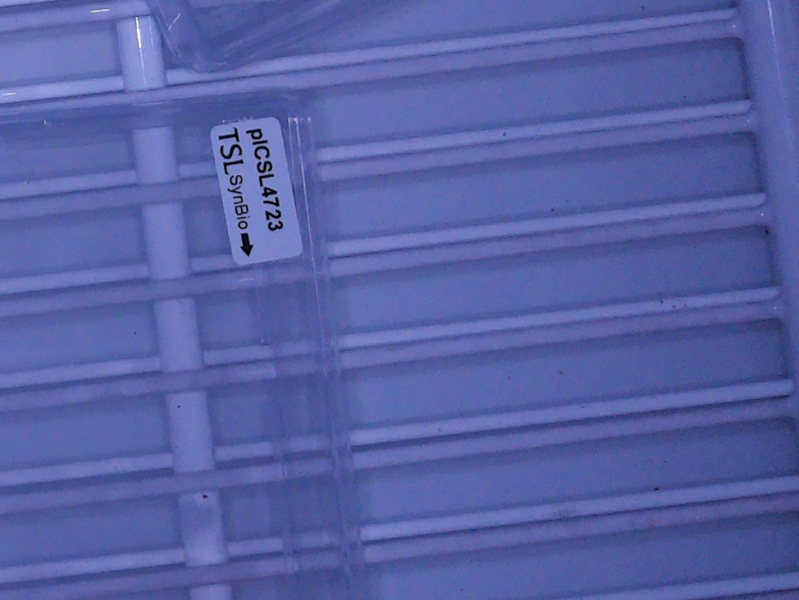plate: (1, 88, 368, 600), (149, 1, 378, 76)
